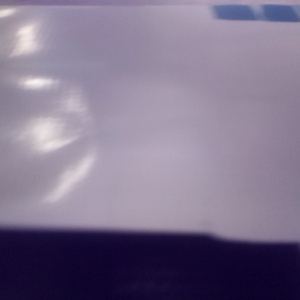bottom_right: (144, 32, 235, 70)
top_left: (105, 8, 186, 38)
